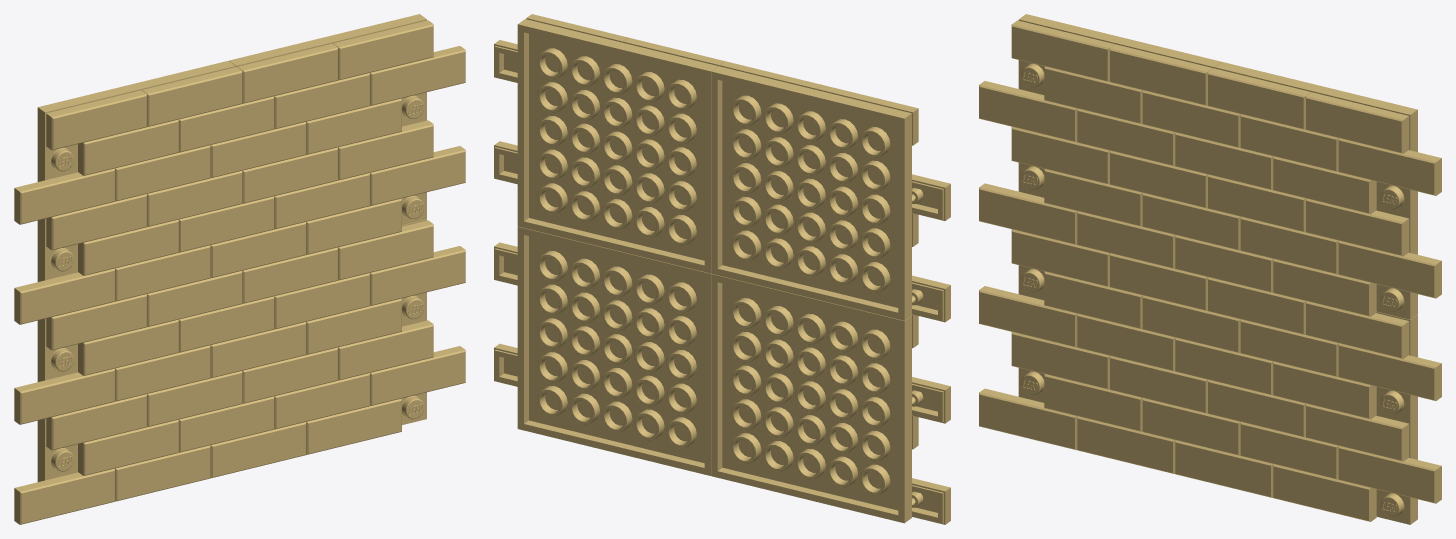
The model's file is wall.fbx.
The picture shows the model from 3 angles, left to right: view 1: azimuth 30°, elevation 25°; view 2: azimuth 150°, elevation 25°; view 3: azimuth 330°, elevation 25°; orthographic projection. The views are drawn at different scales.
Visible parts, largest first — view 1: Wall; view 2: Wall; view 3: Wall.
Part boxes in pixels (box(x1,y1,x2,y2)): Wall: box(14, 14, 465, 524); Wall: box(494, 14, 950, 524); Wall: box(979, 14, 1441, 524).
Size of the model in its own units: 11192 by 9592 by 636.
